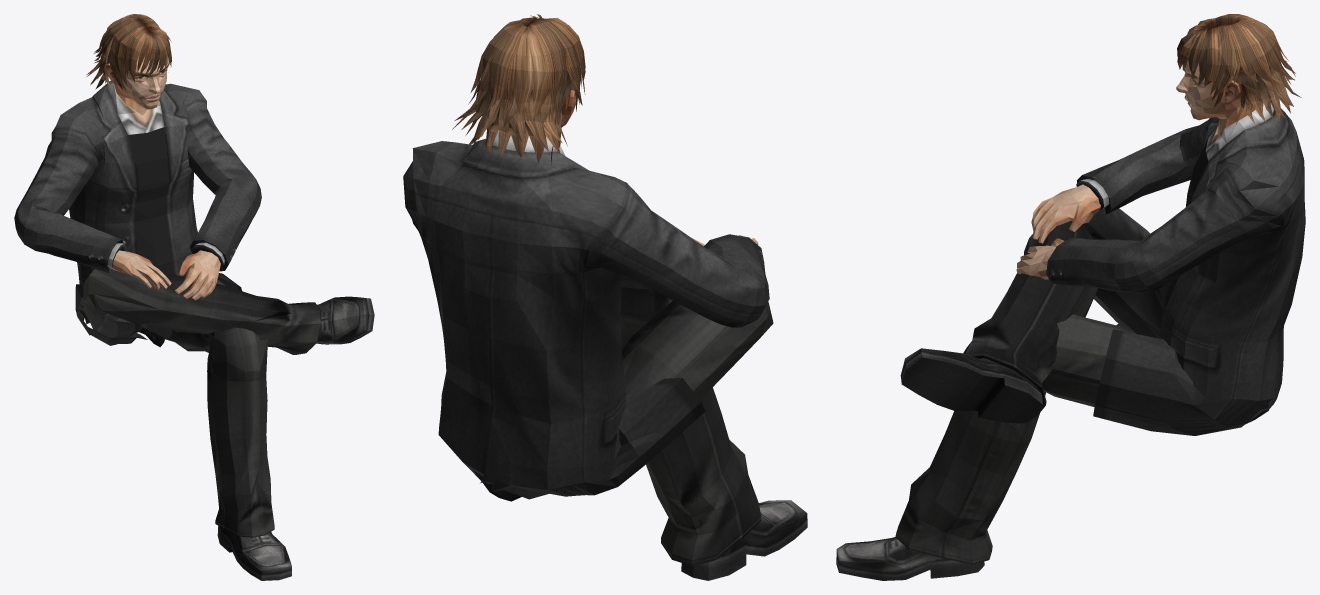
File: sweethome3d-reallusion-sitting-male-17.glb
3 views of the same model, side by side, from view 1: azimuth 30°, elevation 25°; view 2: azimuth 150°, elevation 25°; view 3: azimuth 270°, elevation 25° (orthographic). The views are drawn at different scales.
Parts seen in each view (by area): view 1: body; view 2: body; view 3: body.
Part boxes in pixels (x1=…): body: x1=14, y1=14, x2=374, y2=580; body: x1=403, y1=14, x2=807, y2=580; body: x1=836, y1=14, x2=1305, y2=580.
Bounding box in the file's own units: 76.63 × 132 × 101.
Materials: 3 (3 with a texture image).
